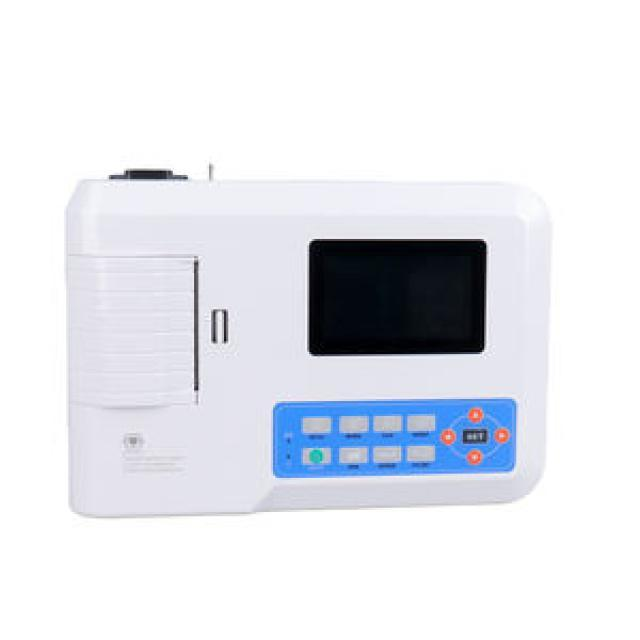Monitor: (63, 162, 550, 519)
